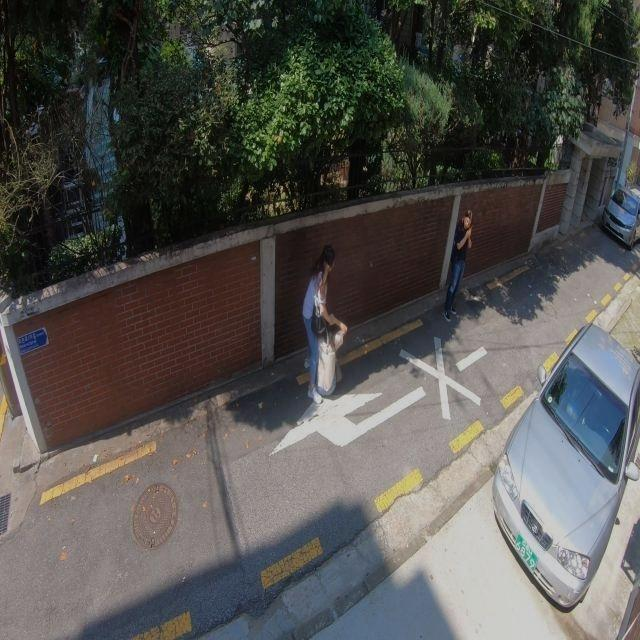fight: (297, 247, 350, 407)
non-fight: (440, 207, 474, 322)
